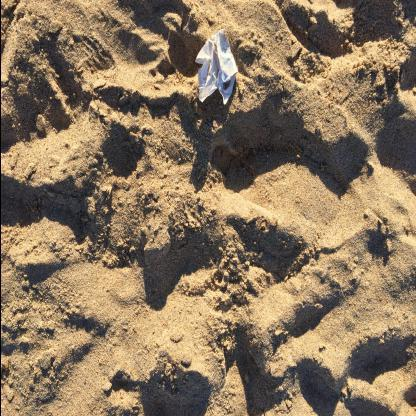kagit: (195, 30, 239, 107)
